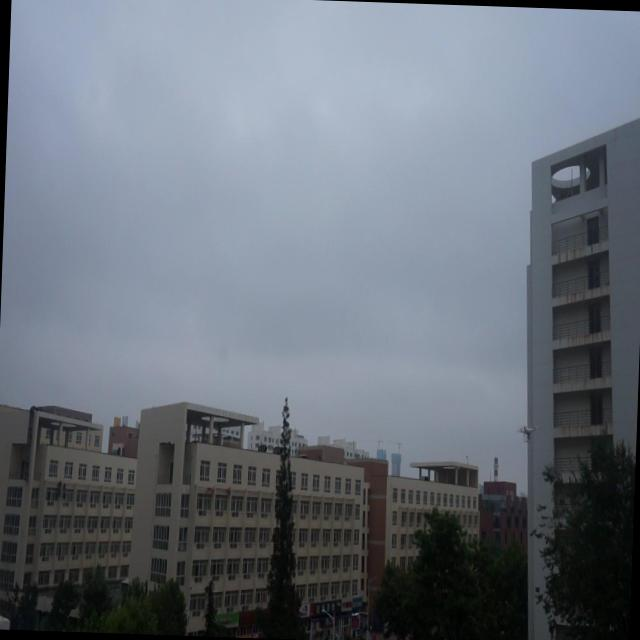drone: (518, 424, 534, 442)
